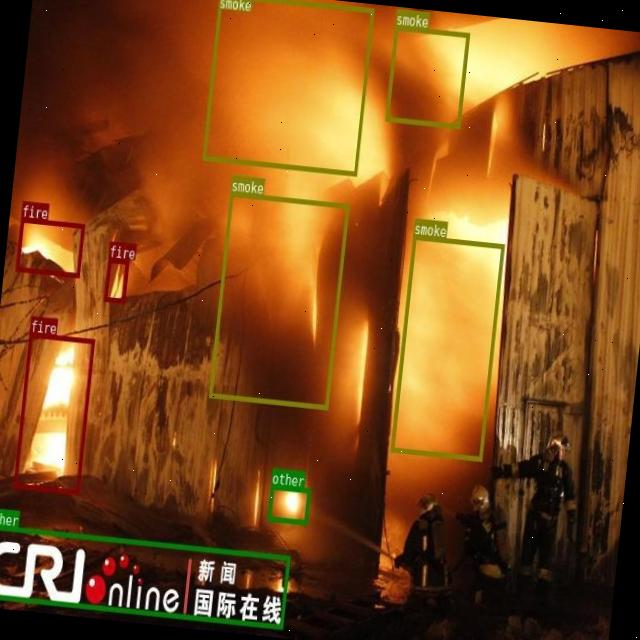fire: (12, 331, 94, 494), (15, 216, 84, 276), (103, 258, 128, 302)
smoke: (208, 191, 348, 408), (202, 0, 373, 175), (390, 235, 504, 460), (384, 24, 469, 128)
